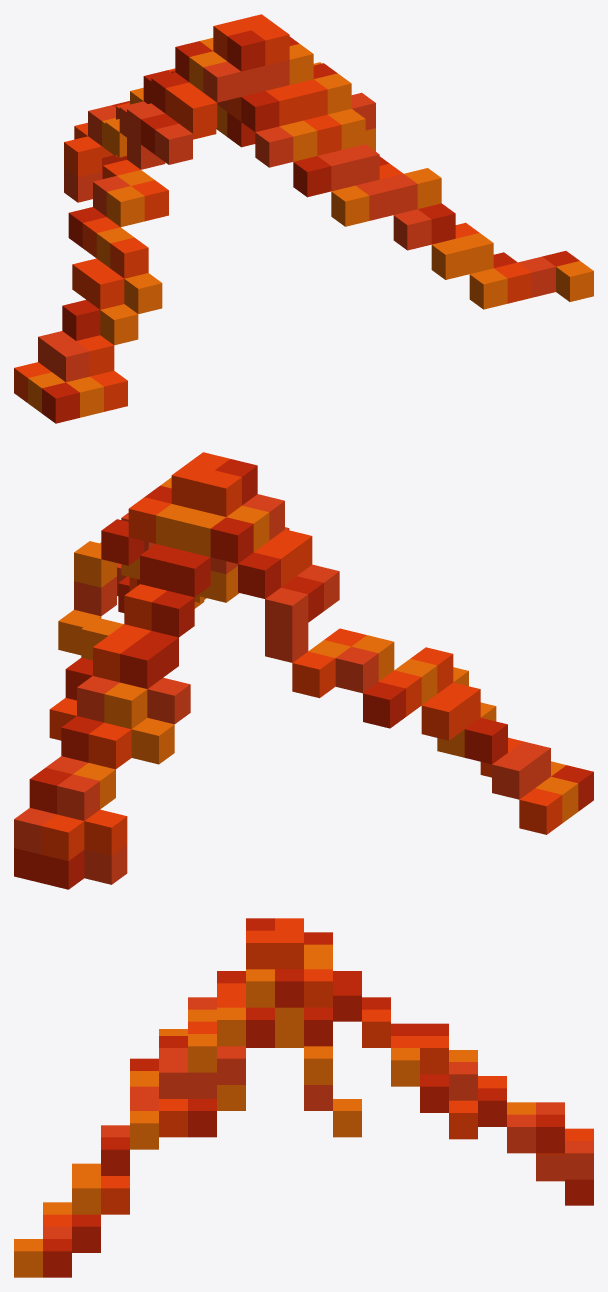
Rendered from forest_arena-0.obj.
The picture shows the model from 3 angles, top to bottom: view 1: azimuth 30°, elevation 25°; view 2: azimuth 150°, elevation 25°; view 3: azimuth 270°, elevation 25°; orthographic projection. The views are drawn at different scales.
Parts seen in each view (by area): view 1: forest_arena-0; view 2: forest_arena-0; view 3: forest_arena-0.
Part boxes in pixels (left/top/right/bottom): forest_arena-0: left=14, top=14, right=593, bottom=423; forest_arena-0: left=14, top=452, right=593, bottom=889; forest_arena-0: left=14, top=918, right=593, bottom=1277.
Size of the model in its own units: 20 by 11 by 20.
